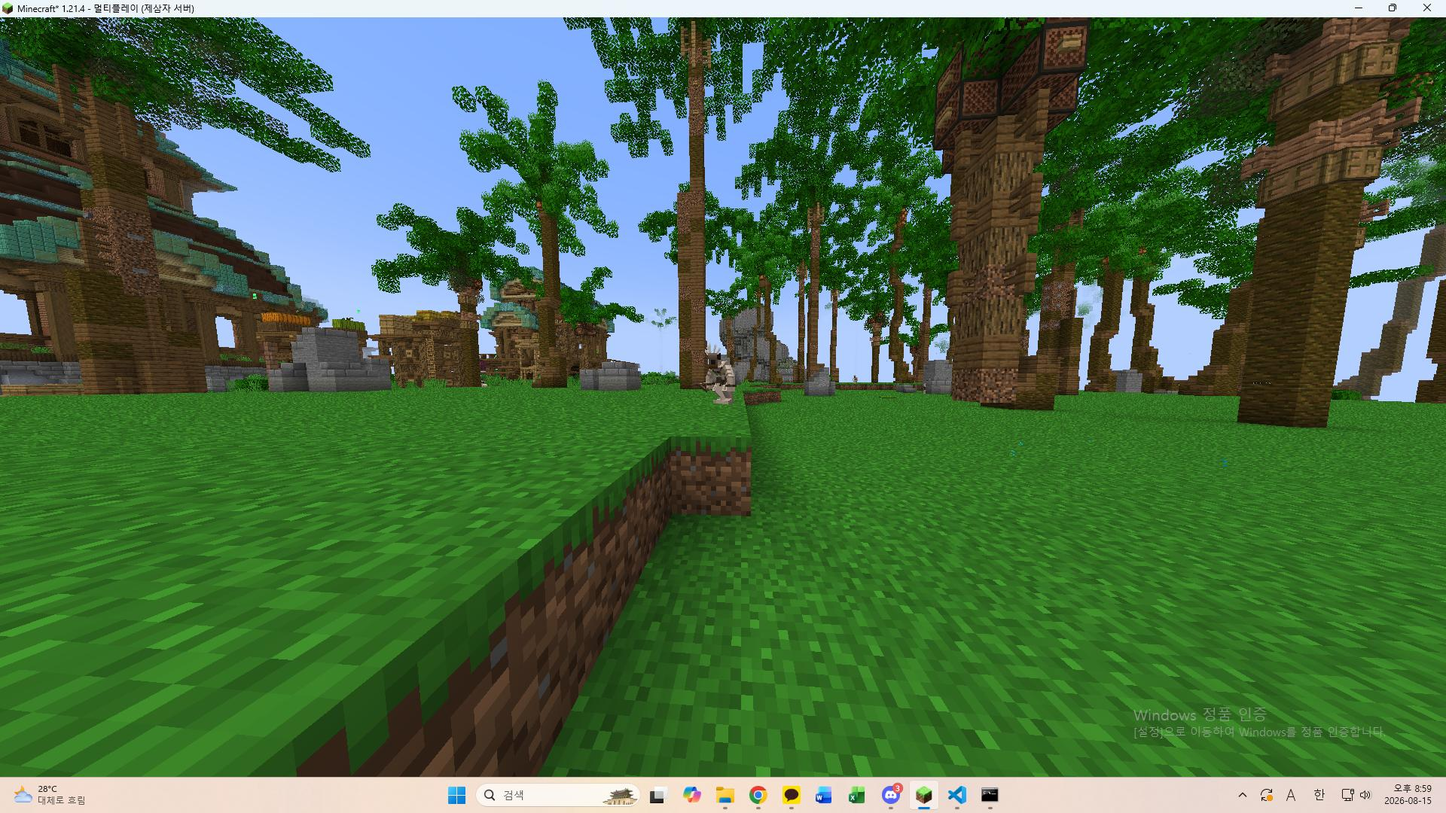bow_indian: (694, 331, 757, 416)
